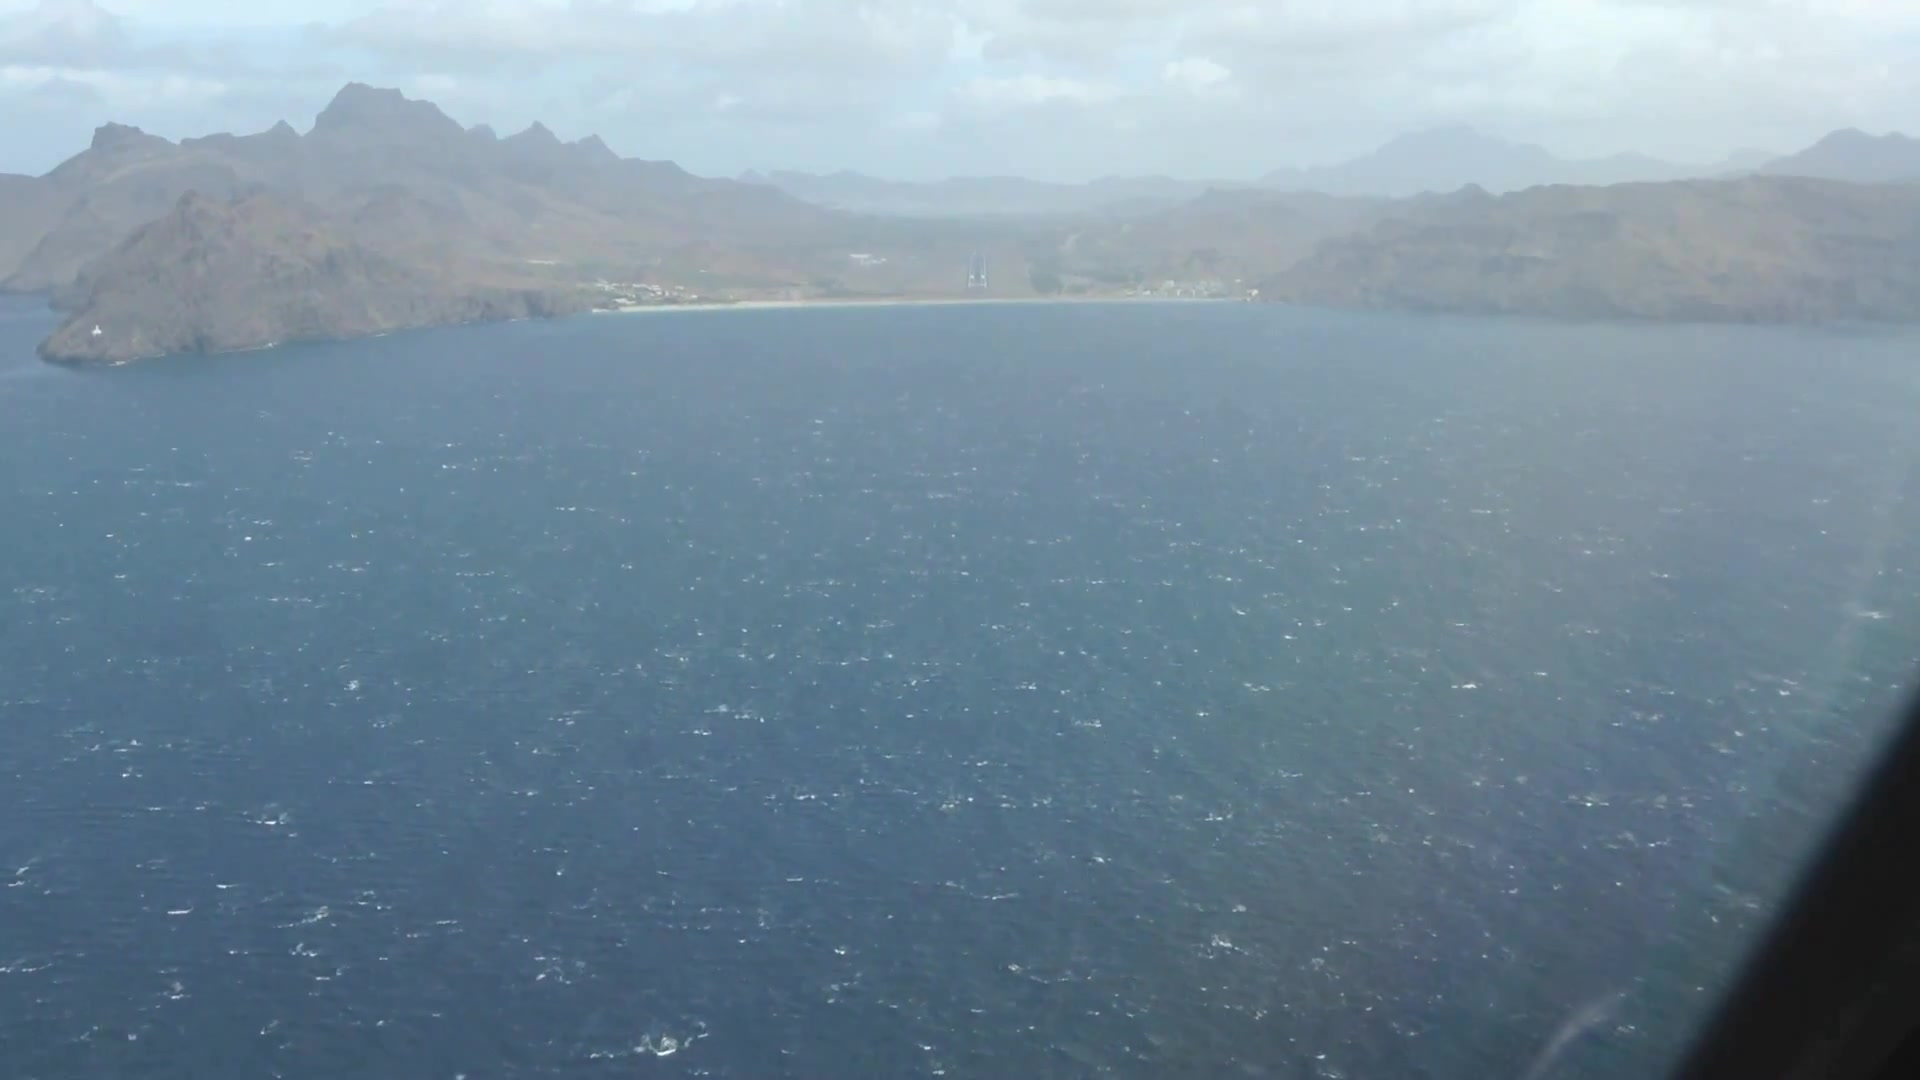runway: (967, 245, 986, 291)
